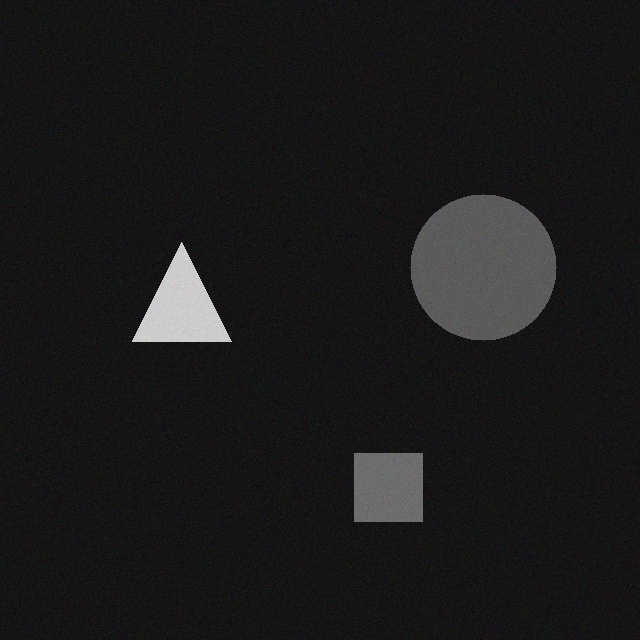circle: (401, 181, 547, 327)
square: (345, 440, 413, 508)
triangle: (123, 229, 222, 328)
